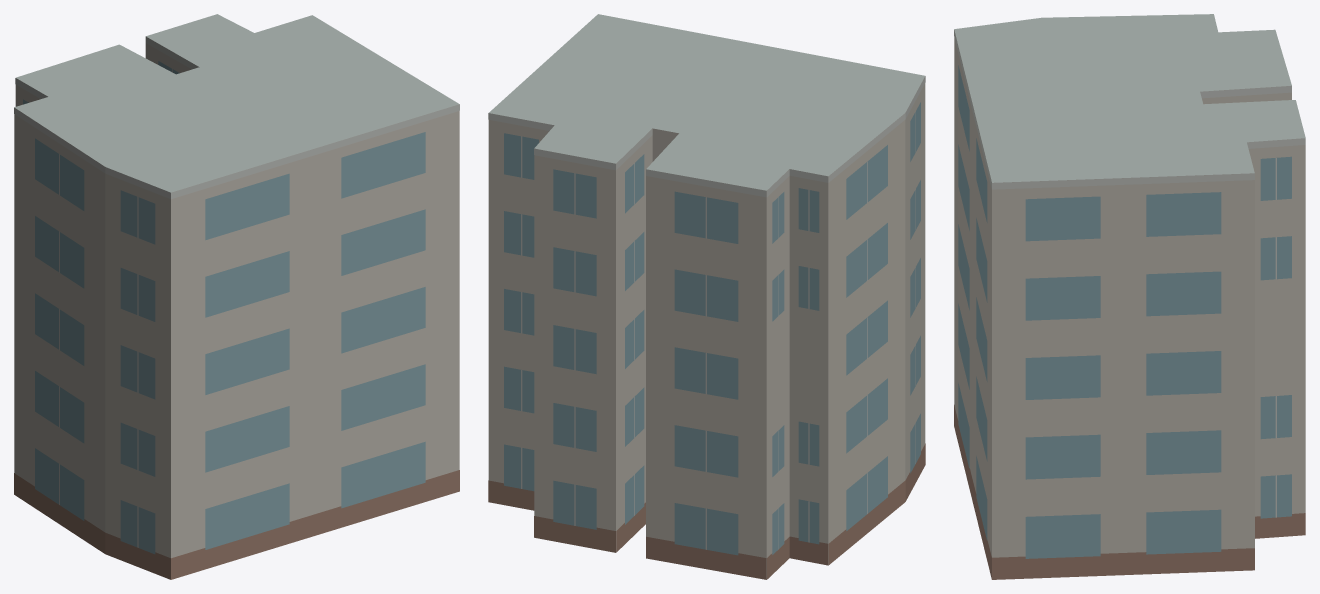
File: survey-upis-32776903.glb
3 renders of one model, left to right at view 1: azimuth 30°, elevation 25°; view 2: azimuth 150°, elevation 25°; view 3: azimuth 270°, elevation 25°, orthographic. The views are drawn at different scales.
Visible parts, largest first — view 1: survey-upis-32776903.tmp; view 2: survey-upis-32776903.tmp; view 3: survey-upis-32776903.tmp.
Part boxes in pixels (<box>): survey-upis-32776903.tmp: <box>14,14,459,579</box>; survey-upis-32776903.tmp: <box>488,14,925,579</box>; survey-upis-32776903.tmp: <box>954,14,1305,579</box>.
Bounding box in the file's own units: 13.02 × 14.26 × 11.46.
